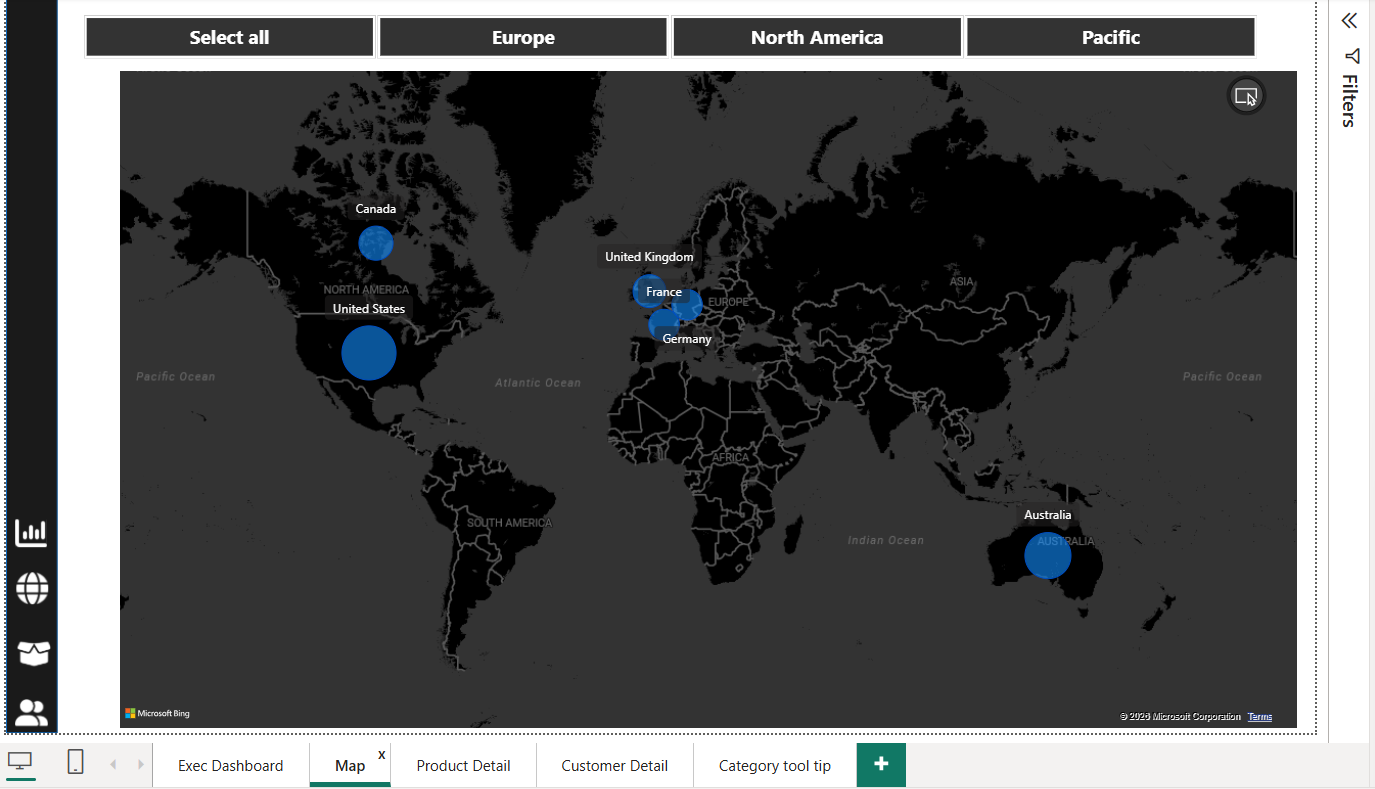

The page's visual inventory and layout, read from the dashboard file:
{"tool":"powerbi","page":{"name":"Map","canvas":[1280,720],"ordinal":1},"visuals":[{"type":"map","fields":{"Size":["Measures Table.Total orders"],"Category":["Territory Lookup.Country"]},"box":[106.3,67.1,1162,653.2],"z":0},{"type":"actionButton","box":[4.3,679.6,41.8,40.4],"z":0,"group":"g1"},{"type":"slicer","fields":{"Values":["Territory Lookup.Continent"]},"box":[50.6,11.4,1197.5,55.7],"z":1000},{"type":"actionButton","box":[7.2,621.9,41.8,40.4],"z":1000,"group":"g1"},{"type":"shape","box":[0,0,50.6,720.3],"z":2000},{"type":"actionButton","box":[4.3,504.5,41.6,39.1],"z":2000,"group":"g1"},{"type":"actionButton","box":[5.4,558.4,41.3,39.5],"z":3000,"group":"g1"},{"type":"group","id":"g1","title":"Navigation button","box":[4.3,504.5,44.7,215.5],"z":3000}]}

Visuals, with their boxes on the page's 1280x720 design canvas (x1, y1, x2, y2). These are canvas units, not pixel positions in the 1375x789 screenshot, which may show the page scaled, cropped or inside an application window:
map - Measures Table.Total orders x Territory Lookup.Country: x1=106 y1=67 x2=1268 y2=720
actionButton: x1=4 y1=680 x2=46 y2=720
slicer - Territory Lookup.Continent: x1=51 y1=11 x2=1248 y2=67
actionButton: x1=7 y1=622 x2=49 y2=662
shape: x1=0 y1=0 x2=51 y2=720
actionButton: x1=4 y1=504 x2=46 y2=544
actionButton: x1=5 y1=558 x2=47 y2=598
"Navigation button" group: x1=4 y1=504 x2=49 y2=720
